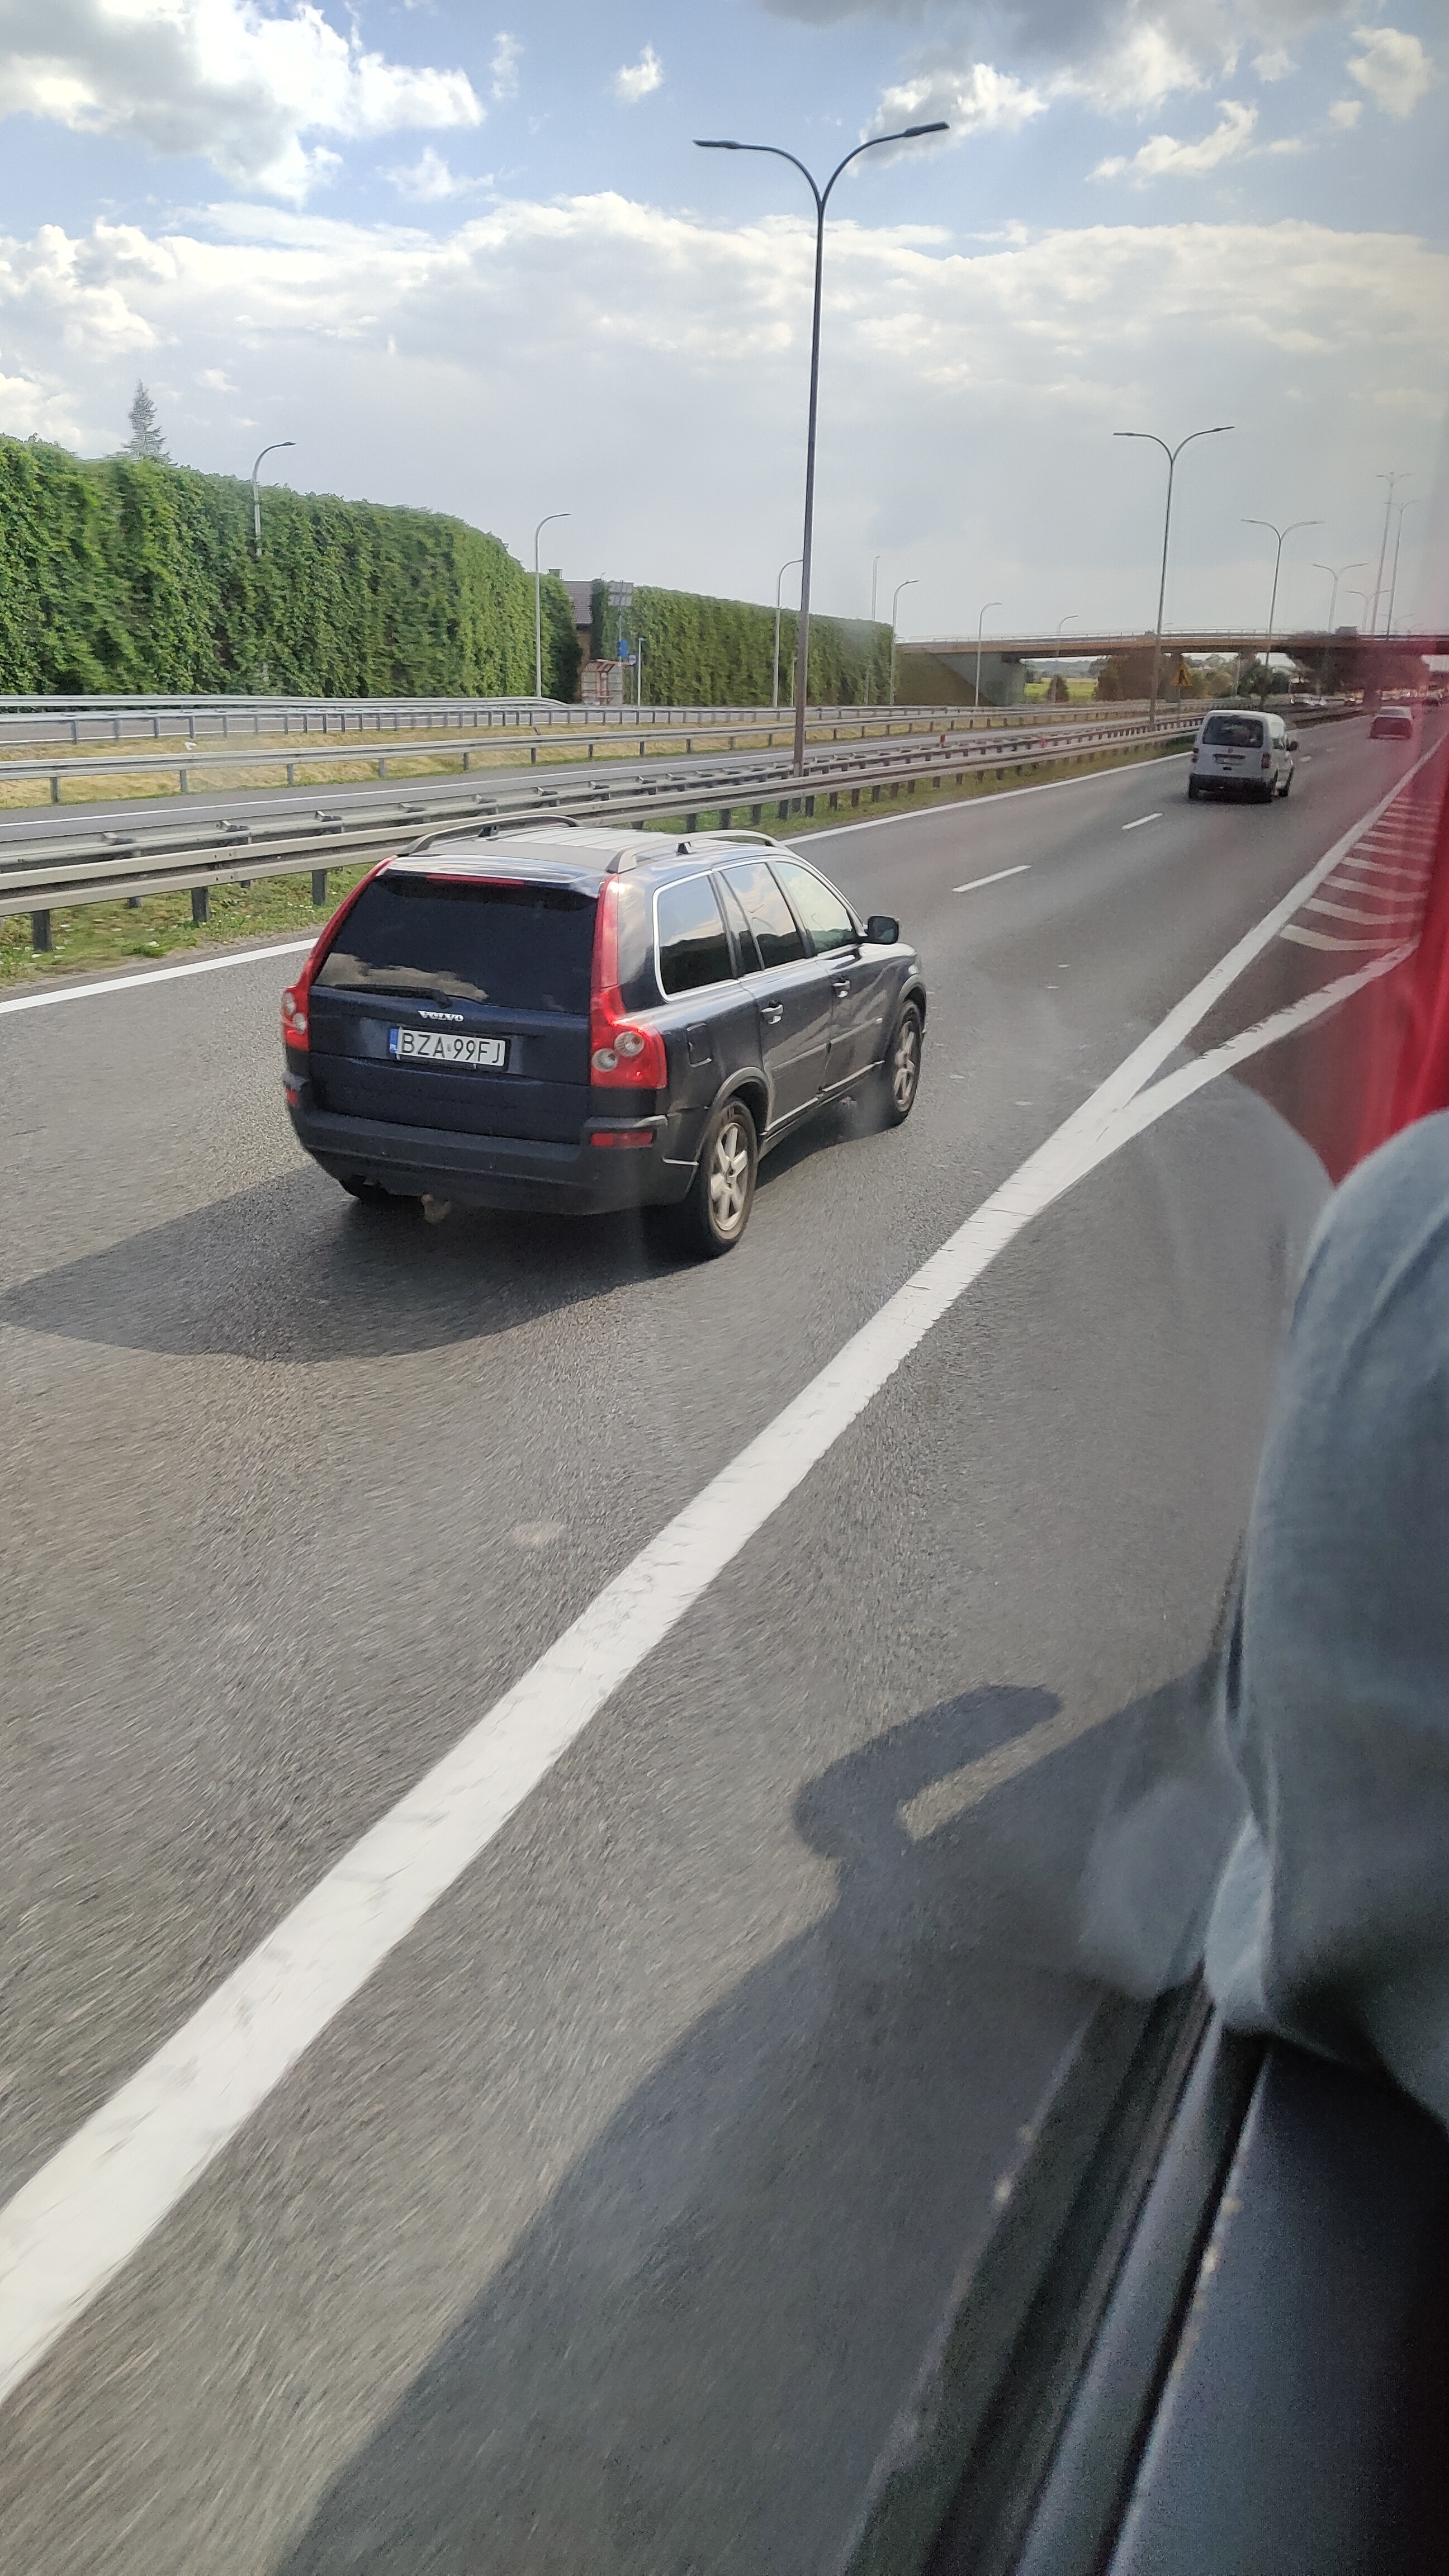number_plate: (387, 1029, 510, 1074)
